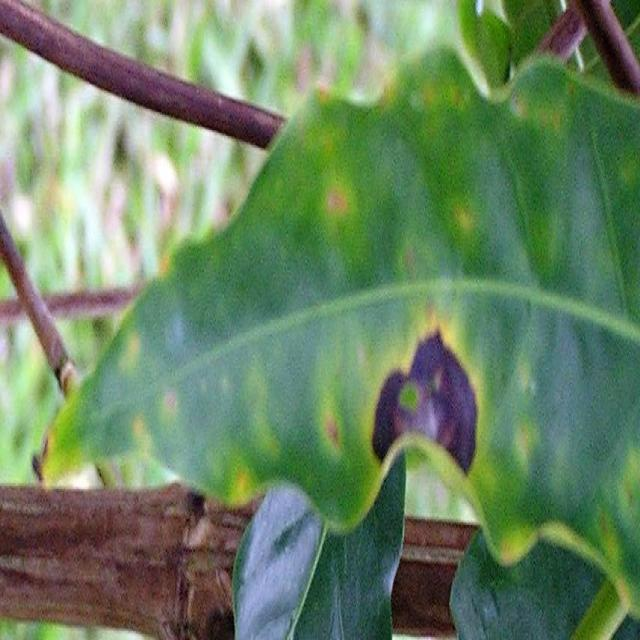Enfermedad-Mancha-de-hierro: (37, 48, 640, 640)
